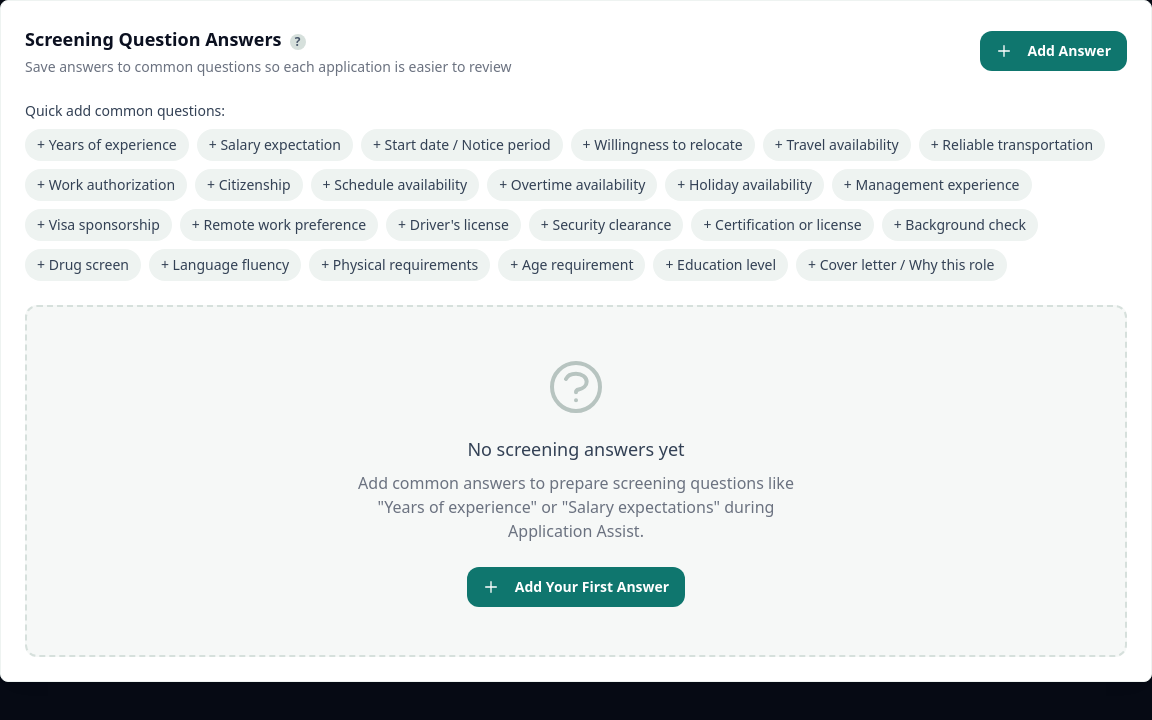
Test: ScreeningAnswersForm form contracts › accessibility › modal has proper dialog role
Click the button "Add Answer" at (1053, 51), box [980,31,1127,71]
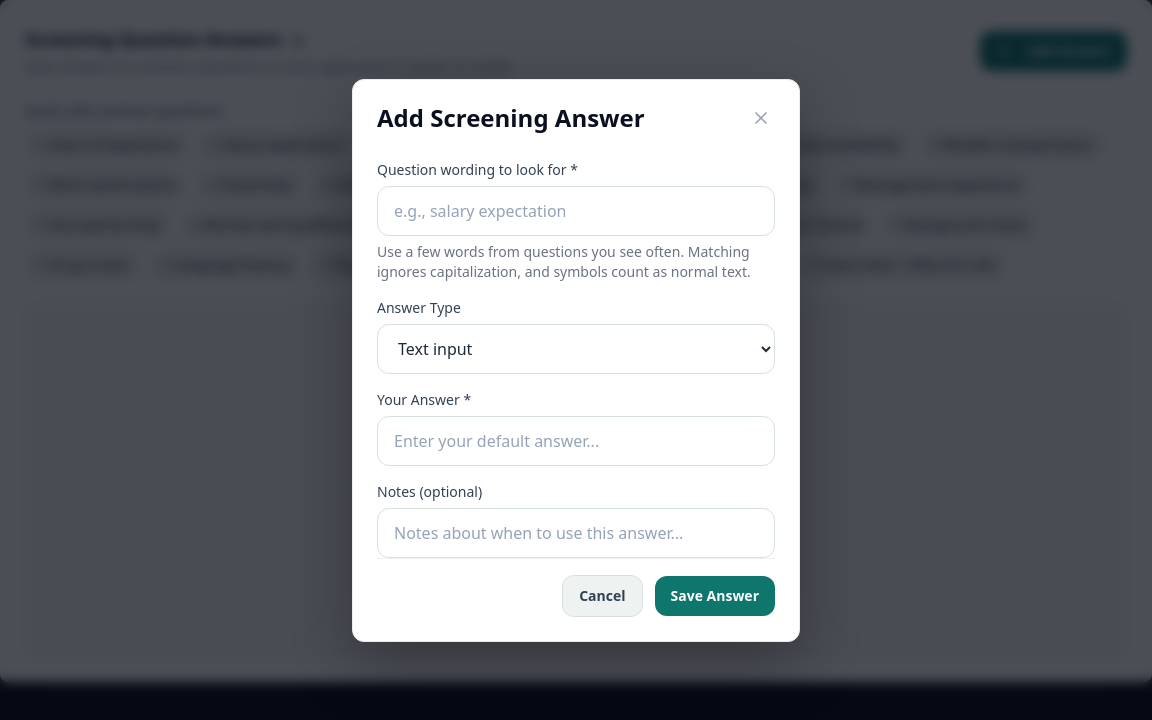
Now the dialog is shown
